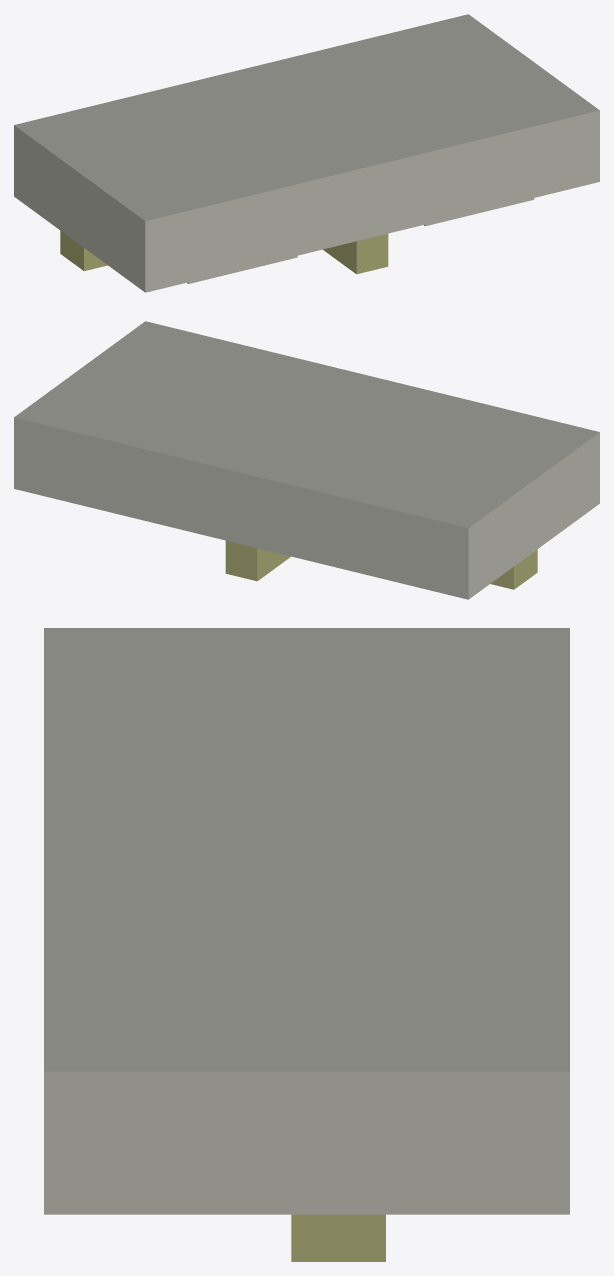
Rendered from SM_AndenLosa_Lateral_v0_Abandonada_LOD1.fbx.
3 renders of one model, top to bottom at view 1: azimuth 30°, elevation 25°; view 2: azimuth 150°, elevation 25°; view 3: azimuth 270°, elevation 25°, orthographic. The views are drawn at different scales.
Visible parts, largest first — view 1: Losa; view 2: Losa; view 3: Losa.
Part boxes in pixels (left/top/right/bottom): Losa: left=14, top=14, right=599, bottom=292; Losa: left=14, top=321, right=599, bottom=599; Losa: left=44, top=628, right=569, bottom=1261.
Size of what is drawn, in the model's own units: 9.98 by 2.2 by 5.
